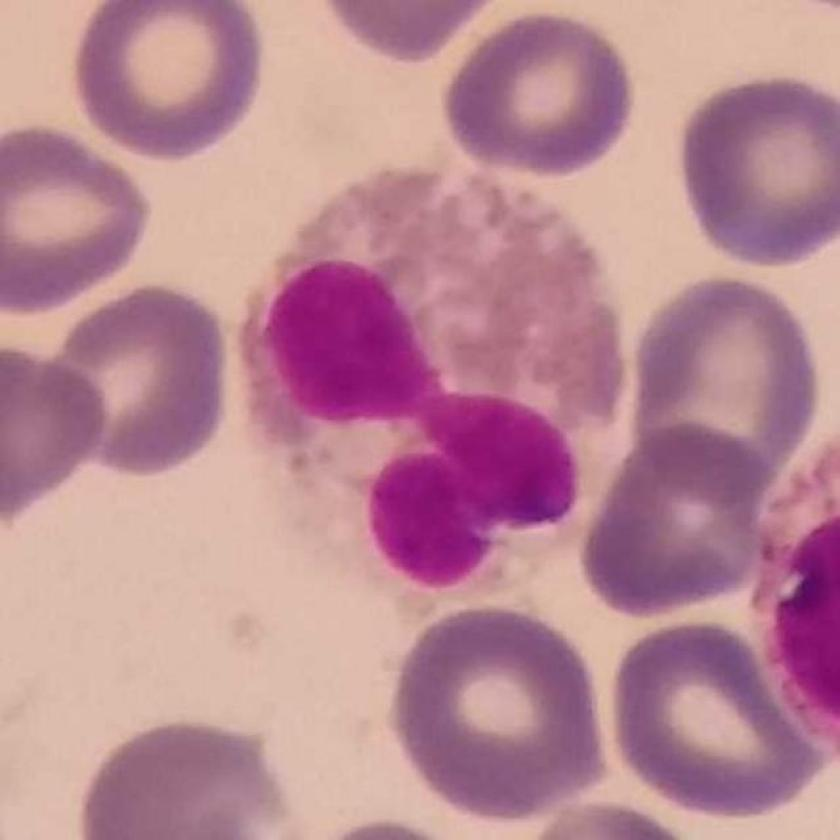eosinophil: (235, 157, 631, 615)
